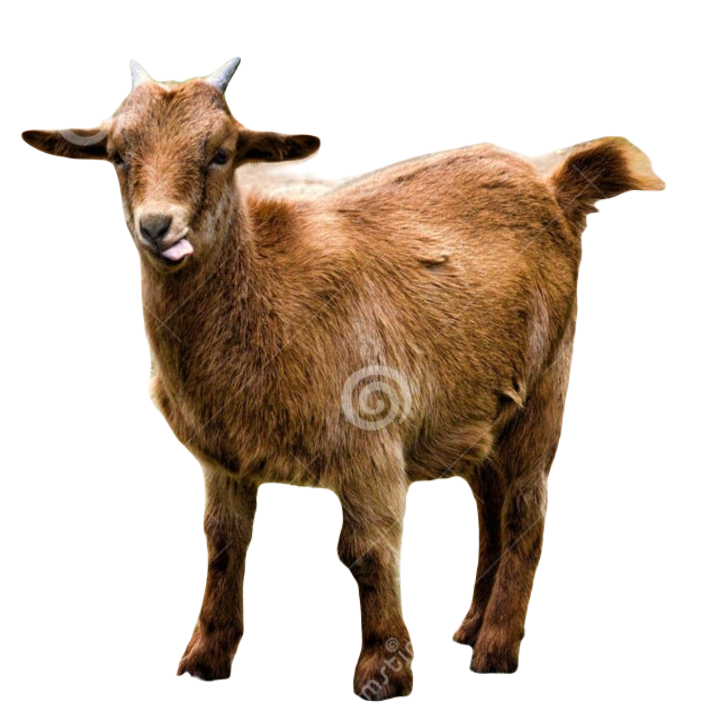Goat: (20, 57, 669, 697)
